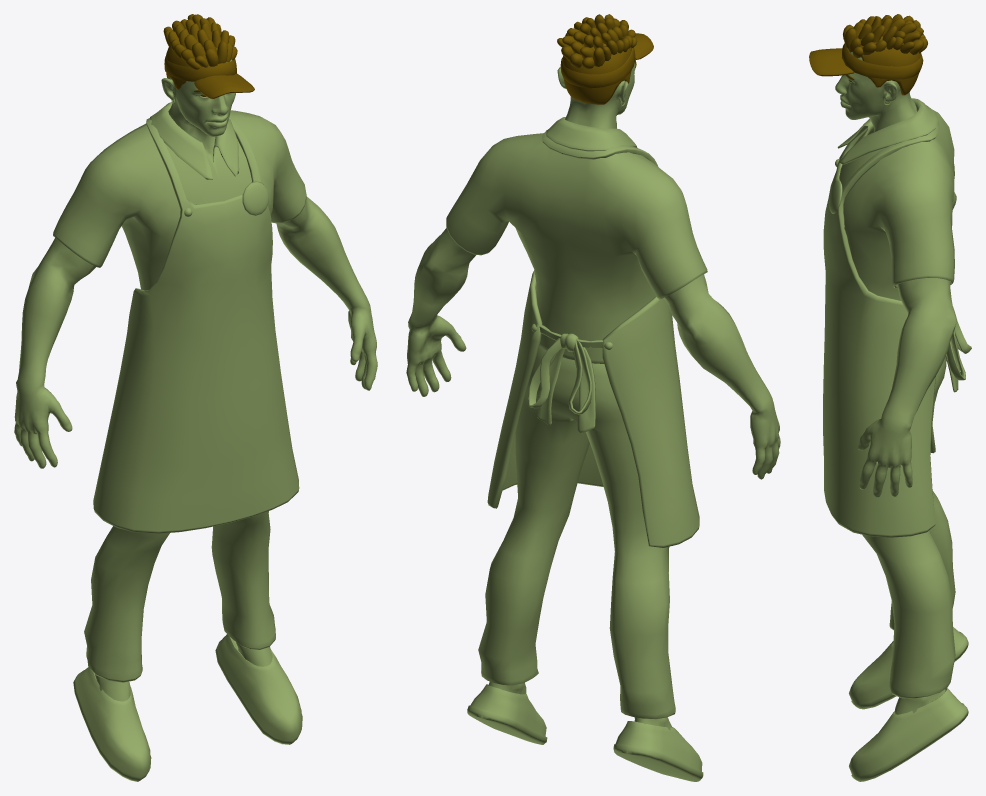
File: Barista_male.fbx
3 views of the same model, side by side, from view 1: azimuth 30°, elevation 25°; view 2: azimuth 150°, elevation 25°; view 3: azimuth 270°, elevation 25° (orthographic). The views are drawn at different scales.
Parts seen in each view (by area): view 1: apron, cloth, male_cafe_body, pants, shoes, hair1, hat2, hat1, brooch; view 2: cloth, pants, apron, male_cafe_body, shoes, Knot2, hair1, hair2, hat1; view 3: apron, cloth, male_cafe_body, pants, shoes, hair1, hair2, hat1, hat2, Knot2, brooch.
Part boxes in pixels (left/top/right/bottom): apron: left=93, top=115, right=299, bottom=533; cloth: left=53, top=102, right=306, bottom=290; male_cafe_body: left=14, top=59, right=377, bottom=701; pants: left=84, top=511, right=275, bottom=682; shoes: left=73, top=634, right=302, bottom=781; hair1: left=163, top=14, right=237, bottom=69; hat2: left=194, top=73, right=254, bottom=98; hat1: left=164, top=56, right=236, bottom=81; brooch: left=242, top=181, right=268, bottom=215; cloth: left=446, top=117, right=707, bottom=363; pants: left=478, top=347, right=675, bottom=719; apron: left=487, top=130, right=699, bottom=547; male_cafe_body: left=406, top=62, right=780, bottom=730; shoes: left=467, top=684, right=703, bottom=781; Knot2: left=528, top=338, right=595, bottom=432; hair1: left=557, top=14, right=637, bottom=69; hair2: left=562, top=37, right=631, bottom=104; hat1: left=560, top=47, right=635, bottom=88; apron: left=823, top=108, right=939, bottom=537; cloth: left=837, top=98, right=954, bottom=300; male_cafe_body: left=835, top=52, right=956, bottom=714; pants: left=862, top=357, right=955, bottom=698; shoes: left=849, top=627, right=968, bottom=781; hair1: left=843, top=14, right=927, bottom=58; hair2: left=857, top=35, right=920, bottom=95; hat1: left=841, top=43, right=923, bottom=79; hat2: left=809, top=48, right=853, bottom=76; Knot2: left=945, top=307, right=971, bottom=392; brooch: left=829, top=180, right=842, bottom=213.
Size of the model in its own units: 103 by 205 by 41.55.
